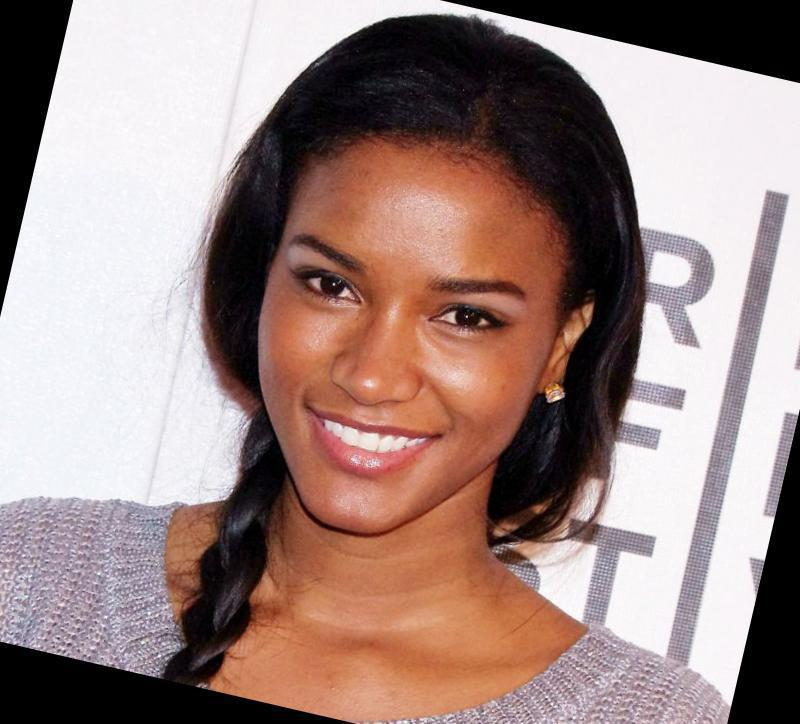Sober: (282, 184, 528, 509)
